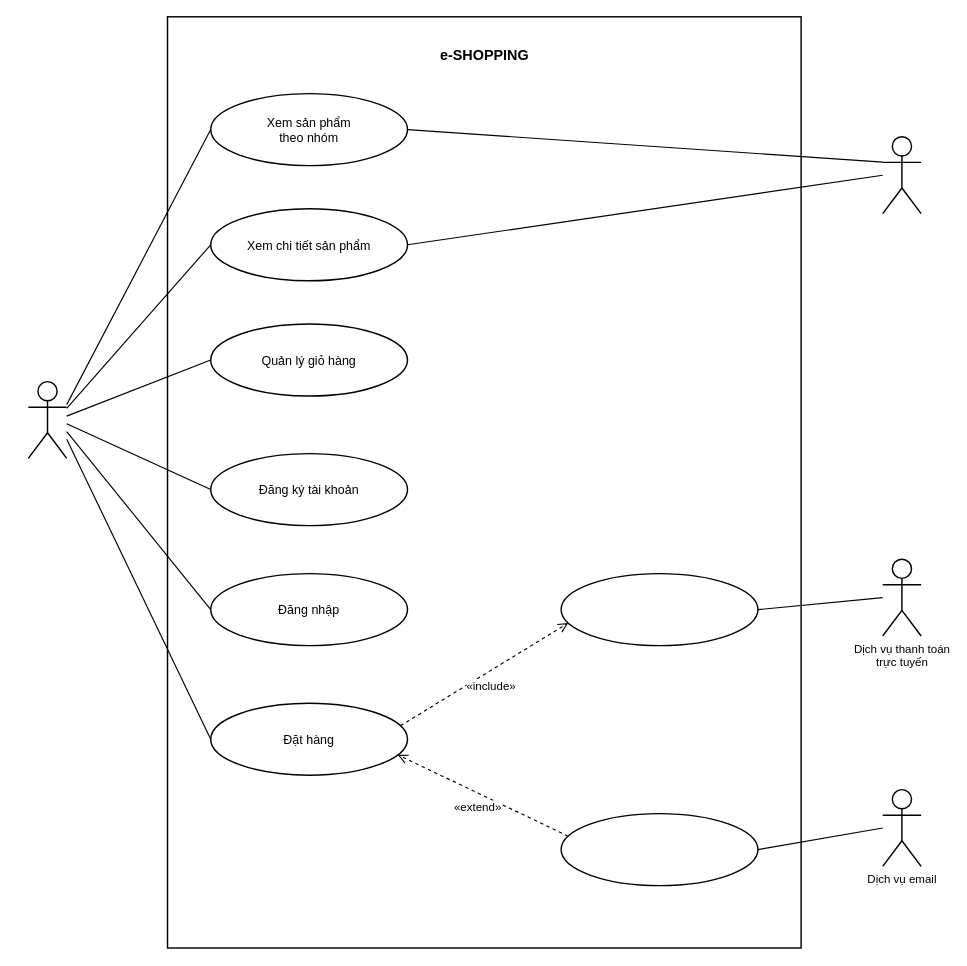
The diagram is 967 pixels wide and 966 high, and some of its shapes have lost their labels. Here are the shapes that lost their labels. From the top down, the centre of each, then its label:
At point (901, 175): "Hệ thống quản lý sản phẩm".
At point (47, 419): "Khách hàng".
At point (659, 609): "Xác minh thanh toán".
At point (659, 849): "Gửi email xác nhận đơn hàng".
